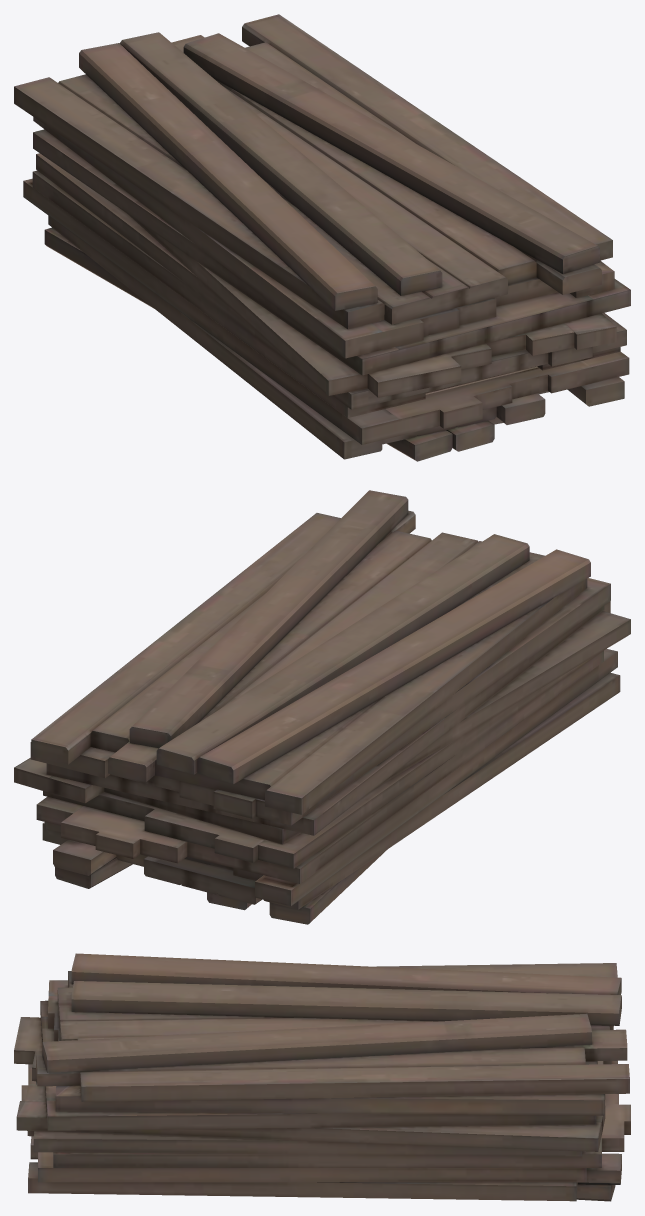
3 views of the same model, one above another, from view 1: azimuth 30°, elevation 25°; view 2: azimuth 150°, elevation 25°; view 3: azimuth 270°, elevation 25° (orthographic). The views are drawn at different scales.
Parts seen in each view (by area): view 1: body0_model0_lod0_mesh0; view 2: body0_model0_lod0_mesh0; view 3: body0_model0_lod0_mesh0.
Part boxes in pixels (bbox=[...]): body0_model0_lod0_mesh0: bbox=[14, 14, 630, 461]; body0_model0_lod0_mesh0: bbox=[14, 490, 630, 924]; body0_model0_lod0_mesh0: bbox=[14, 953, 630, 1201].
Size of the model in its own units: 101 by 49.48 by 192.
Materials: 1 (1 with a texture image).
